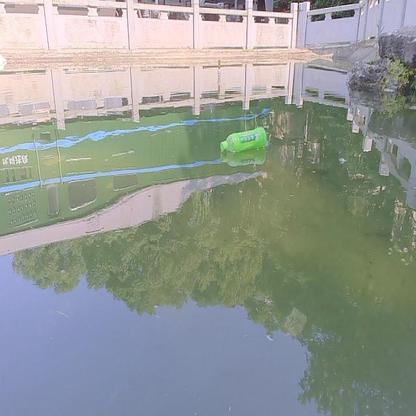plastic bottle: (220, 126, 269, 151)
